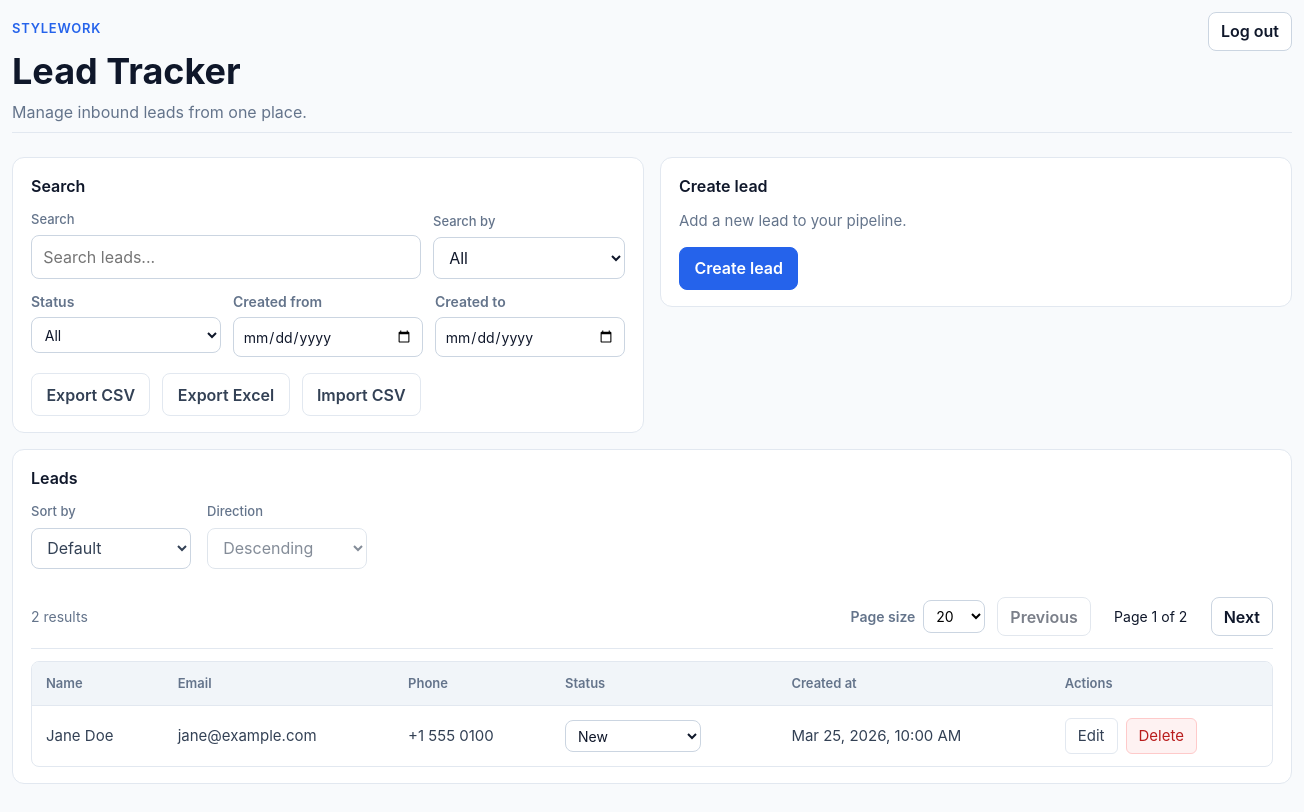
Test: LeadTrackerPage › pagination and filters › disables Previous on the first page and Next on the last page
Expected: the text "Jane Doe" is shown, [32,706,164,766]
Expected: the button "Previous" is disabled, [997,597,1091,636]
Click the button "Next" at (1242, 616), box [1211,597,1273,636]
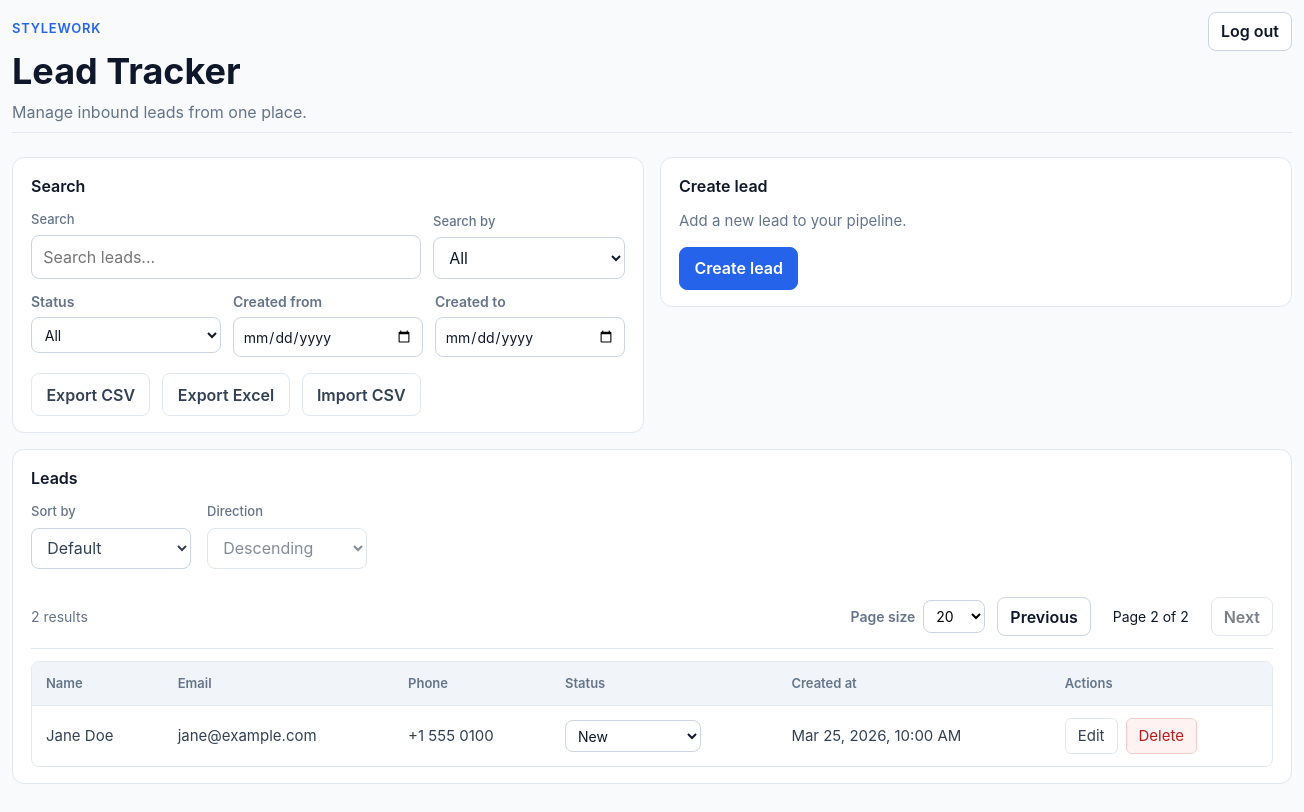
Expected: the button "Next" is disabled, [1211,597,1273,636]
